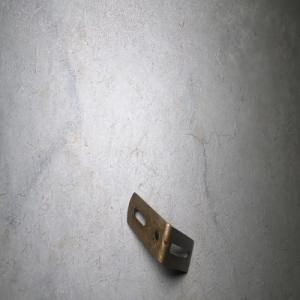MetalPart: (126, 190, 194, 274)
